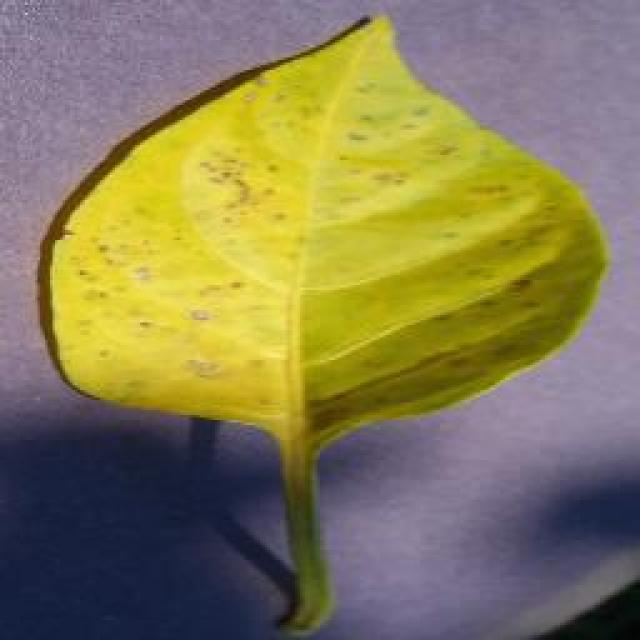Chilli_Bacterial_Spot: (32, 12, 610, 450), (192, 140, 288, 232), (192, 148, 262, 212), (365, 162, 410, 192), (180, 352, 222, 382), (125, 260, 155, 288), (185, 302, 213, 328)
